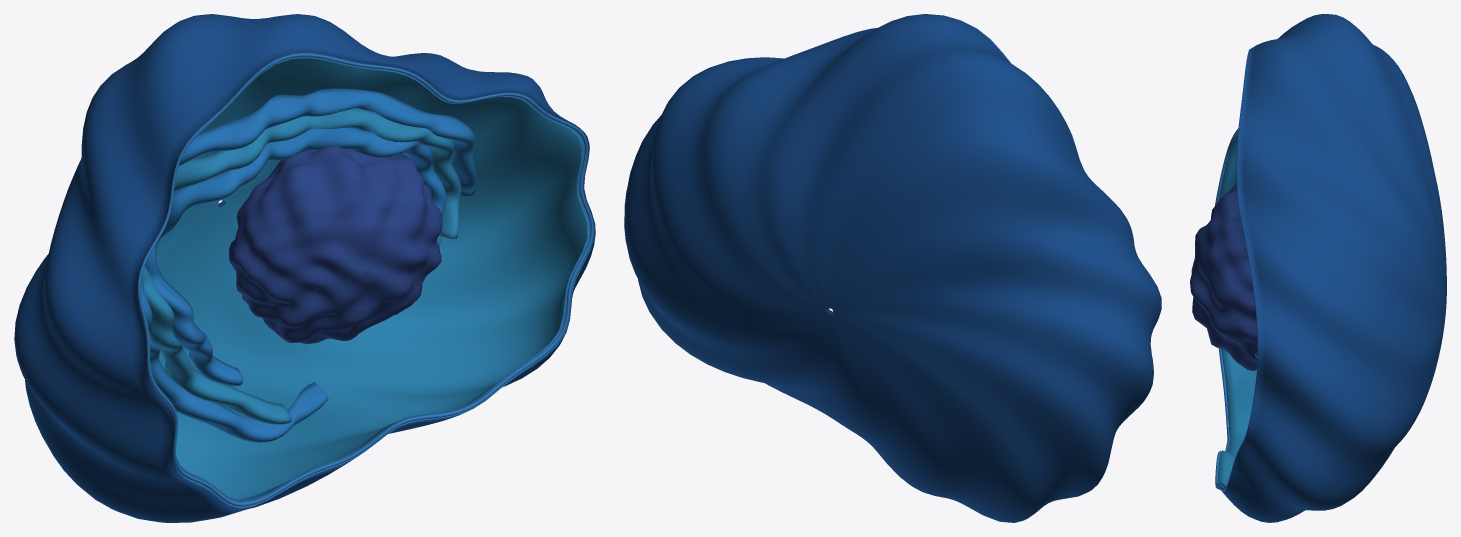
Rendered from cell-sculpture.glb.
3 renders of one model, left to right at view 1: azimuth 30°, elevation 25°; view 2: azimuth 150°, elevation 25°; view 3: azimuth 270°, elevation 25°, orthographic. The views are drawn at different scales.
Parts seen in each view (by area): view 1: Membrane | continuous cutaway shell, Folded internal body, Lamellar fold 3, Lamellar fold 2, Lamellar fold 1, Continuous membrane rim; view 2: Membrane | continuous cutaway shell; view 3: Membrane | continuous cutaway shell, Folded internal body, Continuous membrane rim.
Boxes of the visible parts, x1,y1,x2,y2 form: Membrane | continuous cutaway shell: [14, 14, 595, 522]; Folded internal body: [228, 146, 442, 344]; Lamellar fold 3: [141, 88, 476, 442]; Lamellar fold 2: [142, 108, 461, 424]; Lamellar fold 1: [145, 127, 446, 386]; Continuous membrane rim: [138, 53, 594, 506]; Membrane | continuous cutaway shell: [624, 14, 1161, 522]; Membrane | continuous cutaway shell: [1215, 14, 1446, 522]; Folded internal body: [1190, 182, 1257, 370]; Continuous membrane rim: [1215, 57, 1258, 490].
Bounding box in the file's own units: 4 × 3.4 × 1.74.
